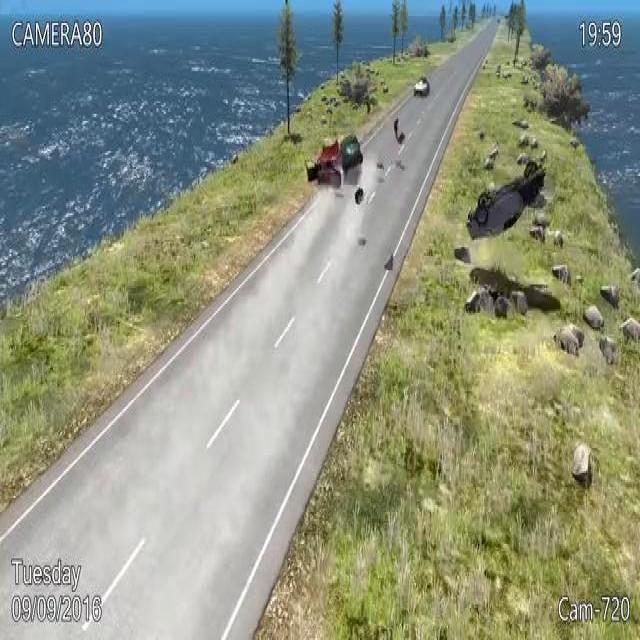moderate: (304, 132, 363, 190)
